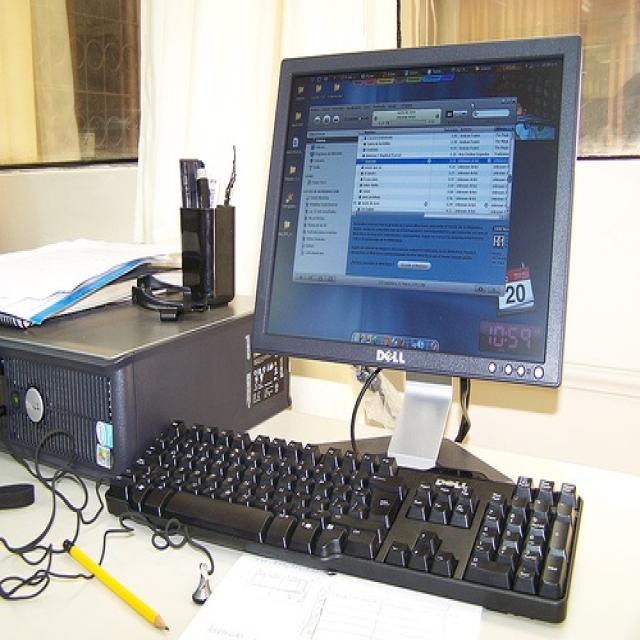tvmonitor: (250, 29, 582, 468)
